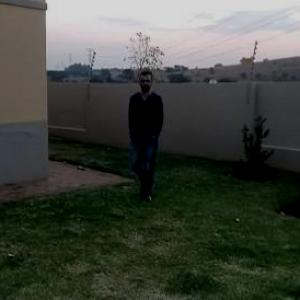follow: (122, 69, 164, 195)
